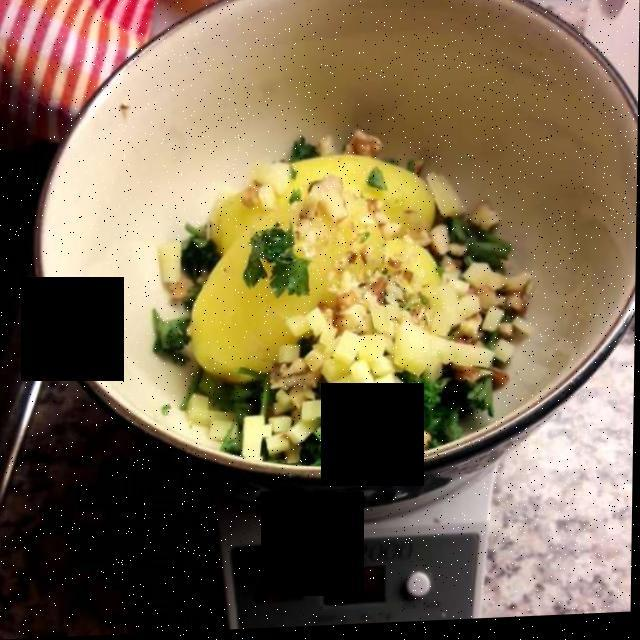gruyere: (193, 250, 499, 463)
parsley: (162, 237, 524, 470)
potatoes: (176, 158, 431, 387)
walnut: (282, 169, 548, 396)
